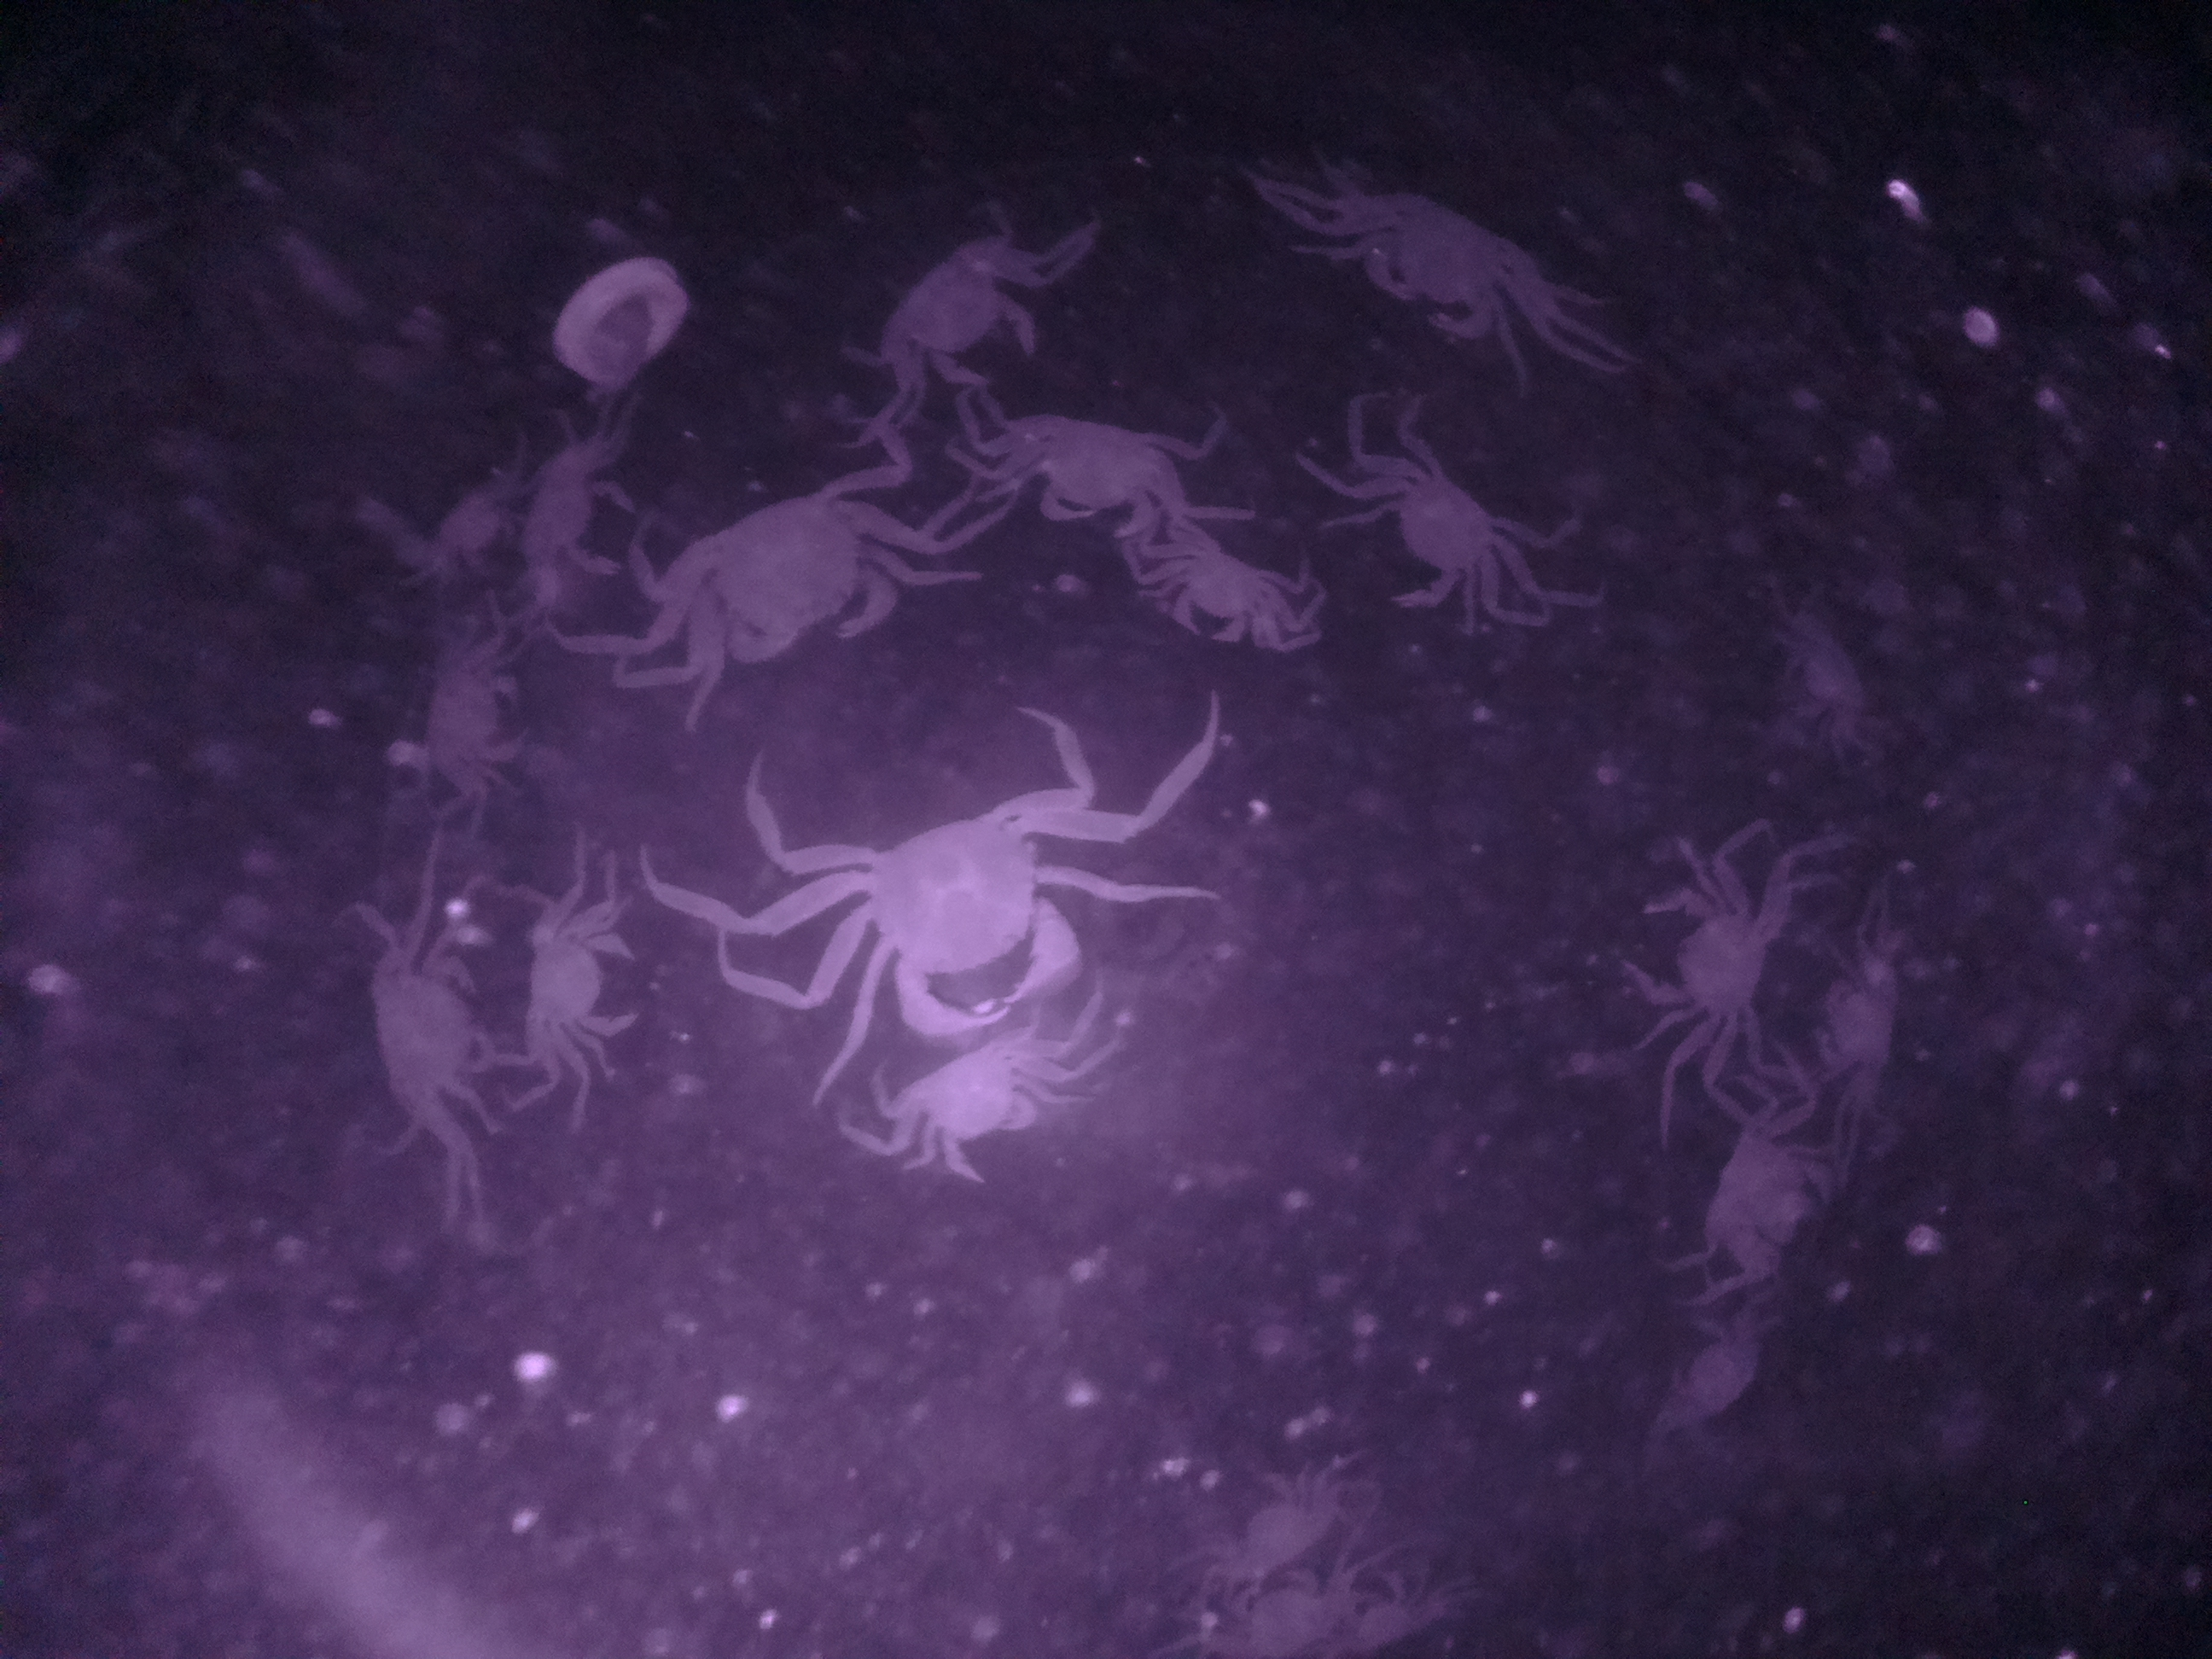Crab: (798, 786, 1101, 1040), (655, 471, 911, 692), (1597, 852, 1808, 1060), (1324, 455, 1545, 631), (1327, 183, 1561, 342), (864, 1016, 1066, 1190), (362, 920, 507, 1157), (881, 240, 1059, 408), (496, 885, 650, 1077), (1014, 390, 1191, 549), (1143, 540, 1284, 655)
